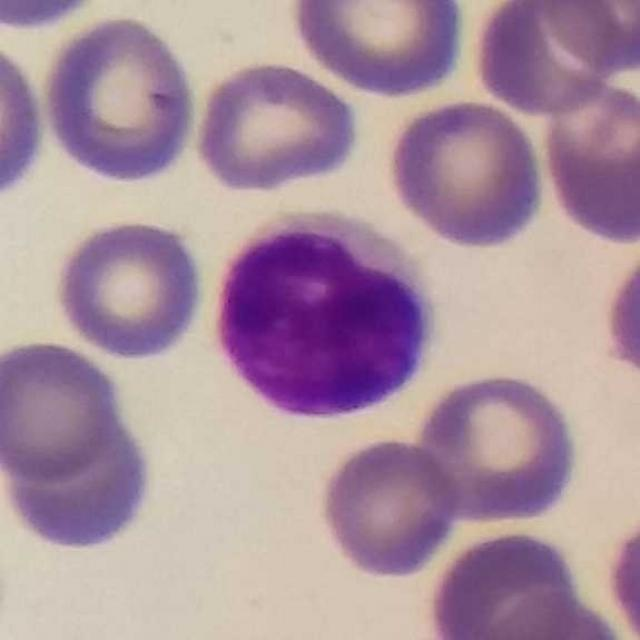Lymphocyte: (202, 201, 446, 432)
RBC: (38, 11, 201, 188), (410, 366, 584, 529), (382, 95, 550, 252), (0, 397, 160, 556), (190, 56, 364, 197), (48, 213, 209, 364), (312, 434, 464, 582), (0, 334, 127, 485), (468, 0, 629, 118), (284, 0, 472, 100), (424, 525, 583, 640), (537, 74, 640, 247), (0, 33, 50, 204), (478, 590, 632, 640), (538, 1, 640, 74), (596, 229, 640, 391), (601, 501, 640, 640), (1, 0, 88, 38)
